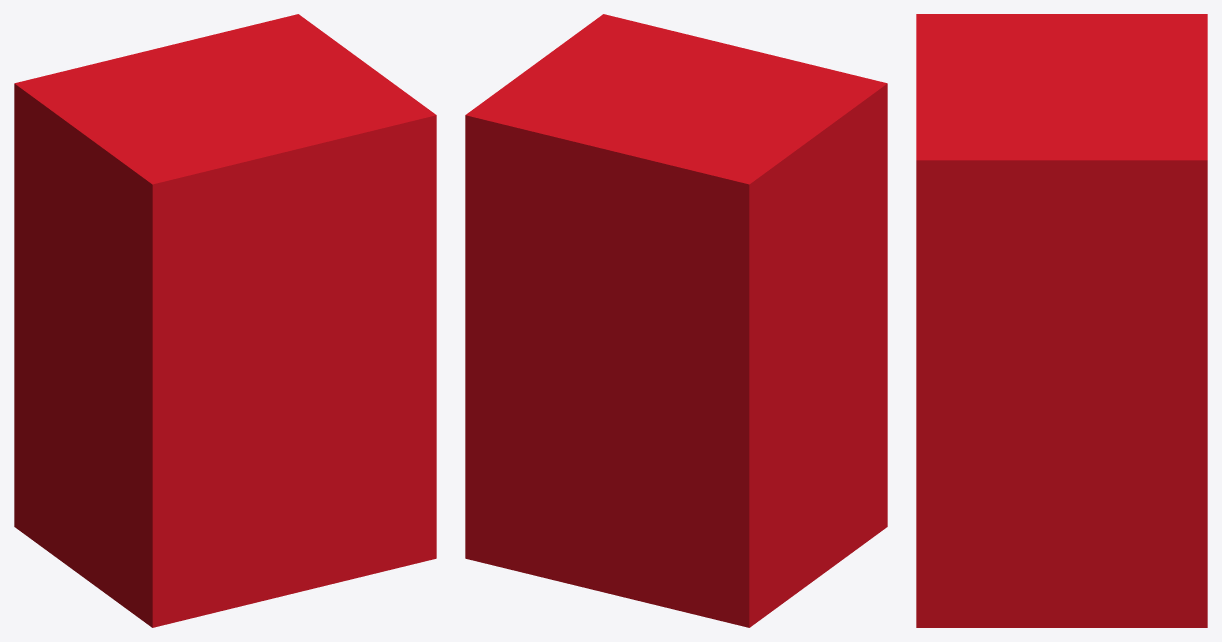
Rendered from blob-application.glb.
The picture shows the model from 3 angles, left to right: view 1: azimuth 30°, elevation 25°; view 2: azimuth 150°, elevation 25°; view 3: azimuth 270°, elevation 25°; orthographic projection. The views are drawn at different scales.
Parts seen in each view (by area): view 1: Cube; view 2: Cube; view 3: Cube.
Boxes of the visible parts, left/top/right/bottom form: Cube: left=14, top=14, right=436, bottom=627; Cube: left=465, top=14, right=887, bottom=627; Cube: left=916, top=14, right=1207, bottom=627.
Size of the model in its own units: 1.8 by 2.68 by 1.51.
